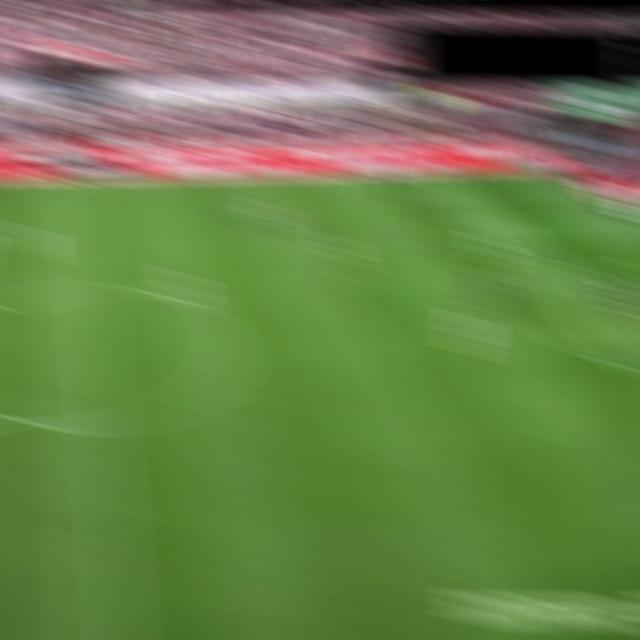bigarea_top_inner: (452, 215, 485, 232)
bigarea_top_outter: (599, 209, 632, 226)
bottom_arc_area_intersection: (609, 356, 640, 373)
corner: (532, 166, 565, 183)
halfcircle_bottom: (85, 416, 118, 433)
halfcircle_top: (72, 282, 105, 299)
midline_top_intersection: (62, 177, 96, 194)
smallarea_top_inner: (617, 256, 640, 273)
top_arc_area_intersection: (511, 269, 544, 286)
